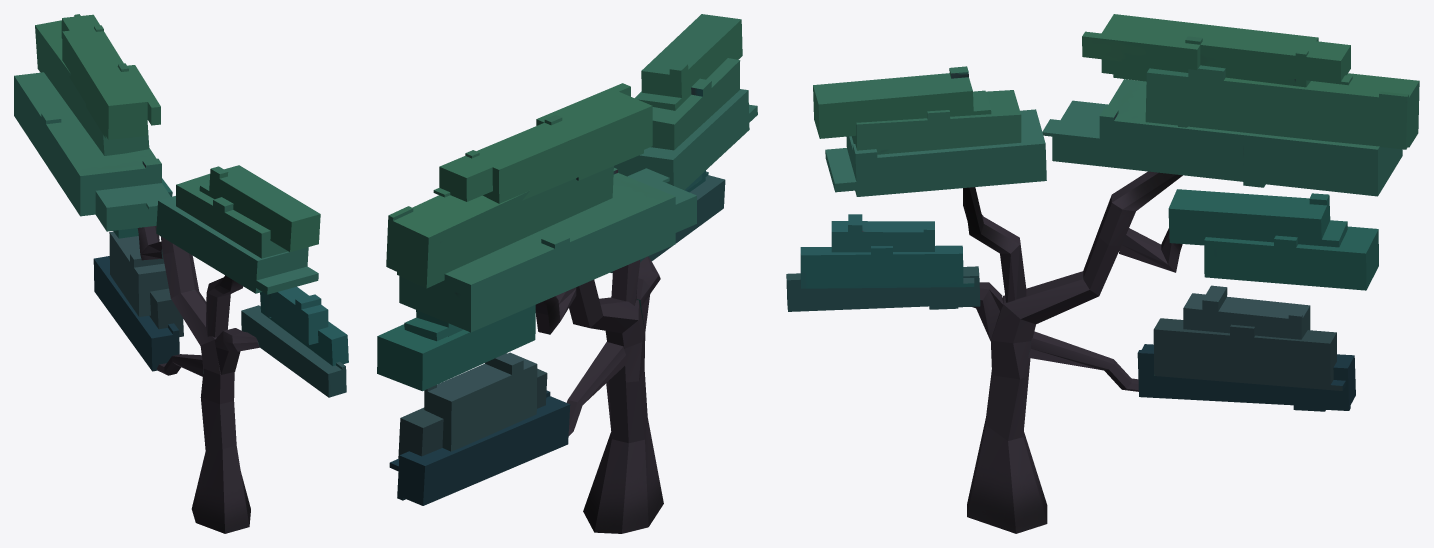
The model's file is Bonsai 2.obj.
3 views of the same model, side by side, from view 1: azimuth 30°, elevation 25°; view 2: azimuth 150°, elevation 25°; view 3: azimuth 270°, elevation 25° (orthographic). The views are drawn at different scales.
Parts seen in each view (by area): view 1: Bonsai 2; view 2: Bonsai 2; view 3: Bonsai 2.
Boxes of the visible parts, x1=… form: Bonsai 2: x1=14, y1=14, x2=348, y2=533; Bonsai 2: x1=377, y1=14, x2=757, y2=533; Bonsai 2: x1=786, y1=14, x2=1419, y2=533.
Size of the model in its own units: 0.8155 by 2.12 by 2.6.
